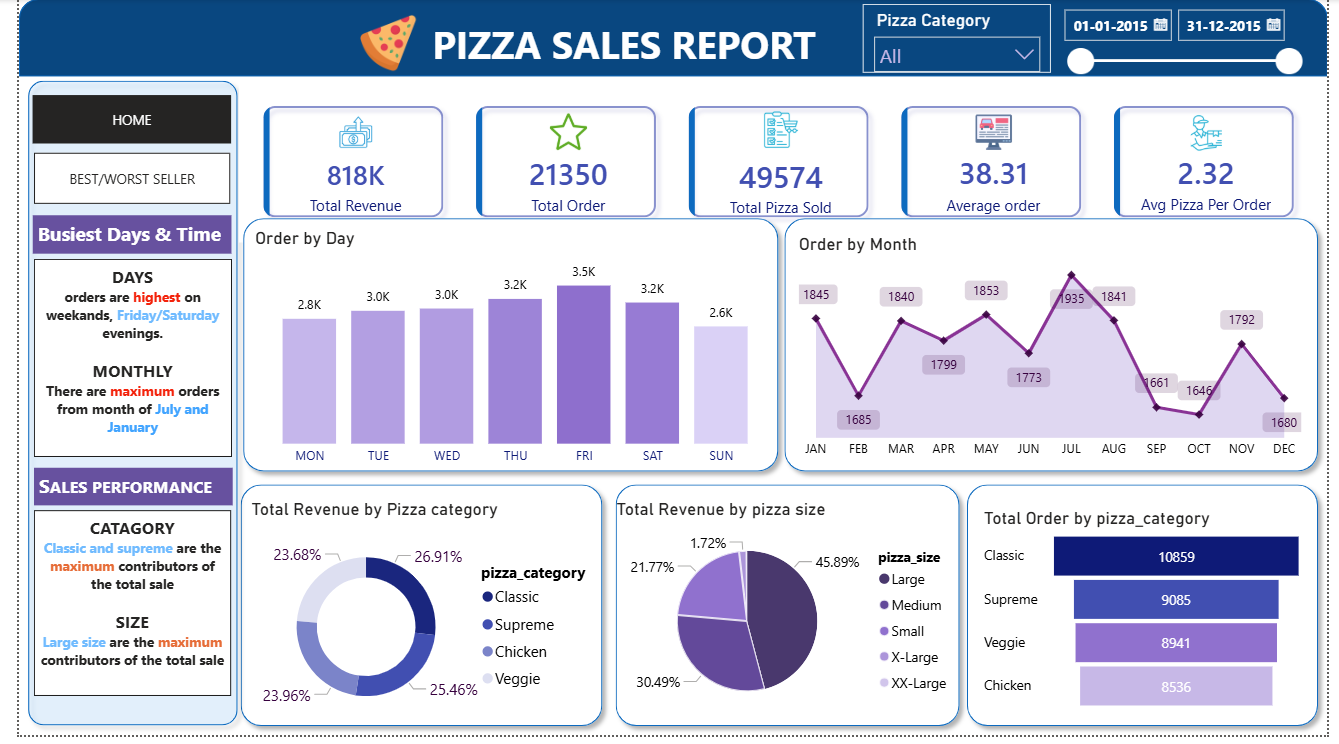

Layout of this report page (visuals, bound fields, positions):
{"tool":"powerbi","page":{"name":"HOME","canvas":[1280,720],"ordinal":0},"visuals":[{"type":"shape","box":[0,0,1280.3,75.8],"z":0},{"type":"textbox","box":[81.4,12.9,1020,62.9],"z":1000},{"type":"image","box":[317.1,14.3,88.6,57.1],"z":2000},{"type":"shape","box":[207.9,465.9,371.7,254.3],"z":3000},{"type":"shape","box":[918.6,465.7,361.4,254.3],"z":4000},{"type":"shape","box":[574.3,465.7,354.3,254.3],"z":5000},{"type":"donutChart","title":"Total Revenue by Pizza category","fields":{"Category":["pizza_sales.pizza_category"],"Y":["pizza_sales.Total Revenue"]},"box":[222.6,489.1,342.4,231.1],"z":6000},{"type":"donutChart","title":"Total Revenue by pizza size","fields":{"Category":["pizza_sales.pizza_size"],"Y":["pizza_sales.Total Revenue"]},"box":[580,488.6,345.7,220],"z":7000},{"type":"funnel","fields":{"Category":["pizza_sales.pizza_category"],"Y":["pizza_sales.Total Order"]},"box":[938.6,497.1,322.9,202.9],"z":8000},{"type":"shape","box":[0,71.4,222.9,648.6],"z":9000},{"type":"textbox","box":[13.3,211.1,194.4,37.8],"z":10000},{"type":"textbox","box":[14.4,254.4,193.3,193.3],"z":11000},{"type":"textbox","box":[14.3,500,192.9,181.4],"z":12000},{"type":"textbox","box":[14.3,458.6,194.3,37.1],"z":13000},{"type":"slicer","fields":{"Values":["pizza_sales.pizza_category"]},"box":[825.7,4.3,184.3,67.1],"z":14000},{"type":"slicer","fields":{"Values":["pizza_sales.order_date"]},"box":[1010,0,253.3,76.7],"z":15000},{"type":"pageNavigator","box":[12.9,94.3,194.3,47.1],"z":16000},{"type":"pageNavigator","box":[14.3,150,192.9,50],"z":17000},{"type":"cardVisual","fields":{"Data":["pizza_sales.Total Revenue","pizza_sales.Total Order","pizza_sales.Total Pizza Sold","pizza_sales.Avg Pizza Per Order","pizza_sales.Avg Pizza Per Order1"]},"box":[210,75.7,1070,167.1],"z":18000},{"type":"shape","box":[210,205.7,541.4,265.7],"z":19000},{"type":"columnChart","title":"Order by Day","fields":{"Category":["pizza_sales.ORDER DAY"],"Y":["pizza_sales.Total Order"]},"box":[225.7,224.3,520,241.4],"z":20000},{"type":"shape","box":[740,205.7,540,265.7],"z":21000},{"type":"areaChart","title":"Order by Month","fields":{"Category":["pizza_sales.order month"],"Y":["pizza_sales.Total Order"]},"box":[758.6,230,501.4,228.6],"z":22000}]}

Visuals, with their boxes in screenshot pixels (x1, y1, x2, y2), scaled from the page's 1280x720 canvas onto the 1339x744 screenshot:
shape: crop(0, 0, 1338, 78)
textbox: crop(85, 13, 1152, 78)
image: crop(332, 15, 424, 74)
shape: crop(217, 481, 606, 743)
shape: crop(961, 481, 1338, 743)
shape: crop(601, 481, 971, 743)
"Total Revenue by Pizza category" donutChart: crop(233, 505, 591, 743)
"Total Revenue by pizza size" donutChart: crop(607, 505, 968, 732)
funnel - pizza_sales.pizza_category x pizza_sales.Total Order: crop(982, 514, 1320, 723)
shape: crop(0, 74, 233, 743)
textbox: crop(14, 218, 217, 257)
textbox: crop(15, 263, 217, 463)
textbox: crop(15, 517, 217, 704)
textbox: crop(15, 474, 218, 512)
slicer - pizza_sales.pizza_category: crop(864, 4, 1057, 74)
slicer - pizza_sales.order_date: crop(1057, 0, 1322, 79)
pageNavigator: crop(13, 97, 217, 146)
pageNavigator: crop(15, 155, 217, 207)
cardVisual - pizza_sales.Total Revenue x pizza_sales.Total Order: crop(220, 78, 1338, 251)
shape: crop(220, 213, 786, 487)
"Order by Day" columnChart: crop(236, 232, 780, 481)
shape: crop(774, 213, 1338, 487)
"Order by Month" areaChart: crop(794, 238, 1318, 474)
